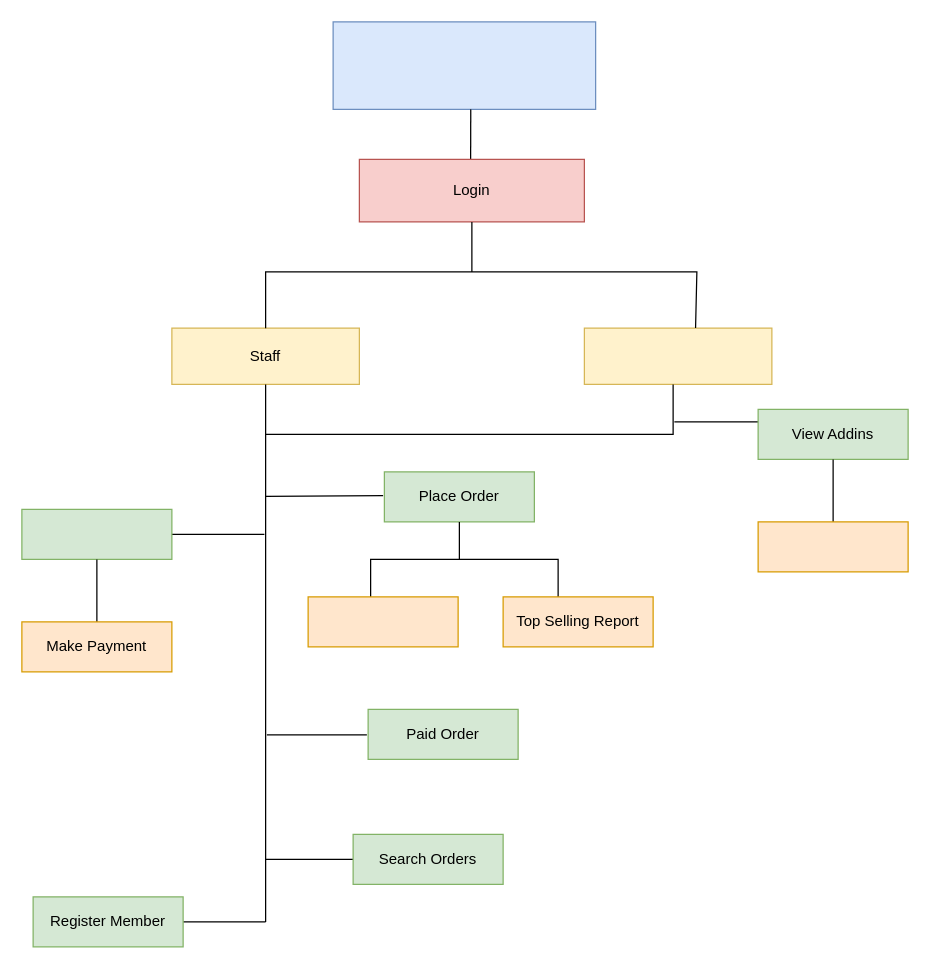
Image size: 930x969. Some labels were removed from this diagram. Here are the shapes that lost their labels. From the top down, the centre of each, then its label:
pixel 464 65: Bislerium Cafe
pixel 677 355: Admin
pixel 96 533: View Order
pixel 832 546: Edit Addins
pixel 382 621: Revenue Report
